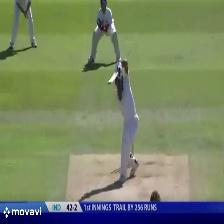batsman: (106, 55, 140, 184)
